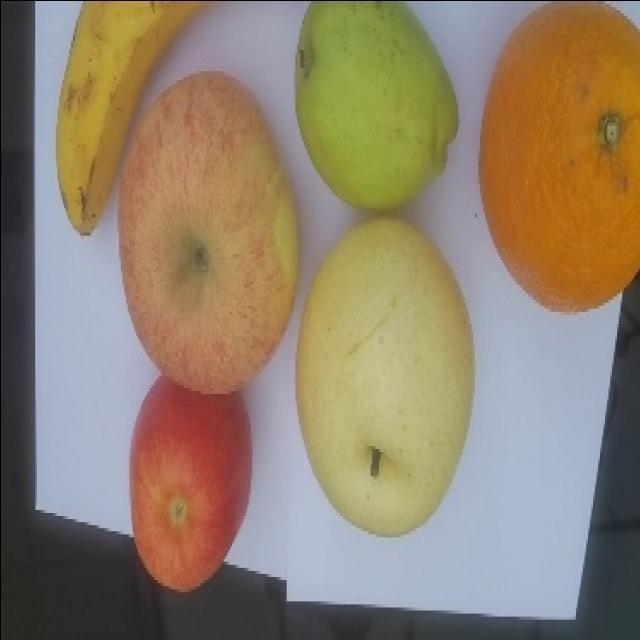Apple: (116, 69, 302, 397), (125, 364, 256, 594)
Banana: (54, 0, 208, 236)
Orange: (472, 4, 640, 315)
